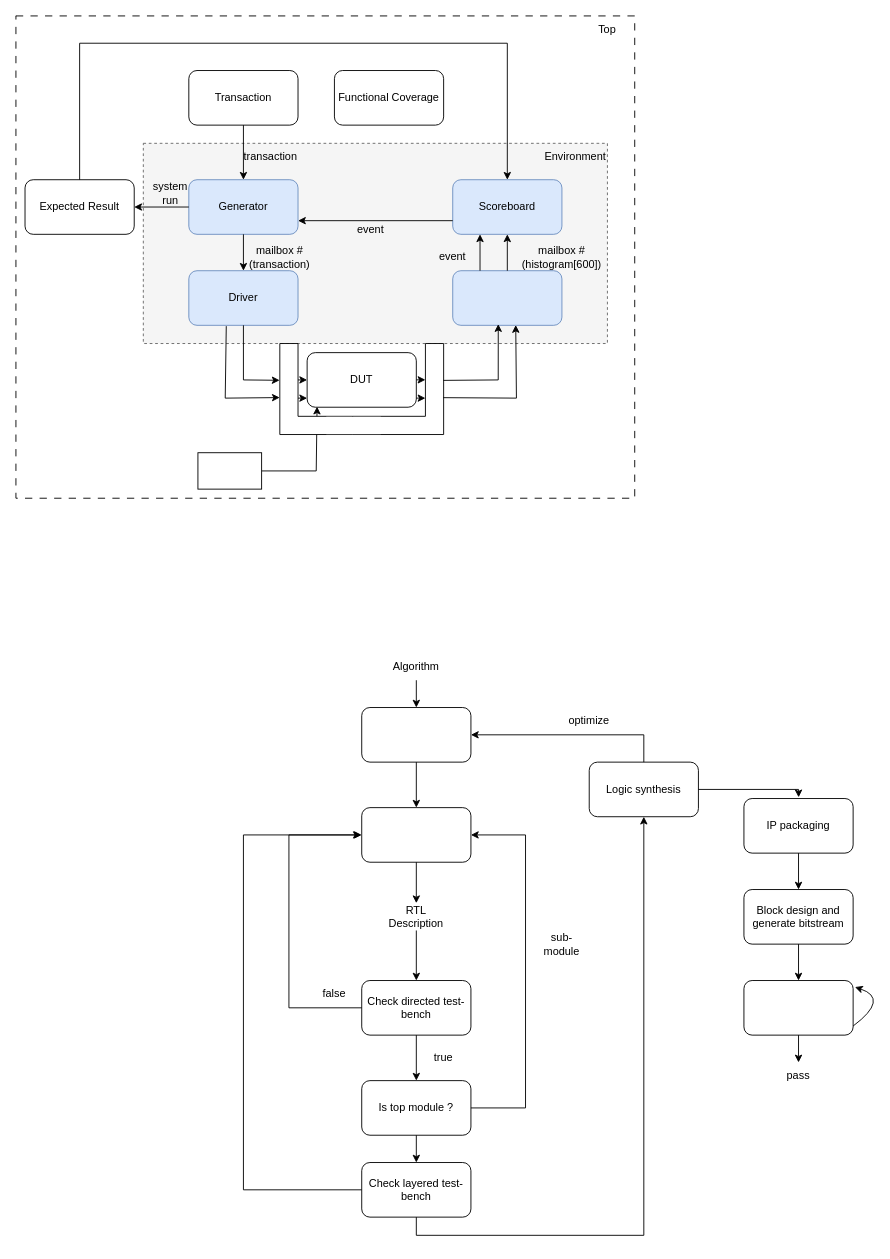
This 890x1259 diagram has some shape labels left out. The centre of each missing label's shape, as x and y in pixels:
"Clock" belongs at point (229, 470).
"Convert to RTL" belongs at point (416, 834).
"Interface" belongs at point (353, 425).
"Monitor" belongs at point (507, 297).
"Specification" belongs at point (416, 734).
"SW coding and check with golden model" belongs at point (798, 1007).
